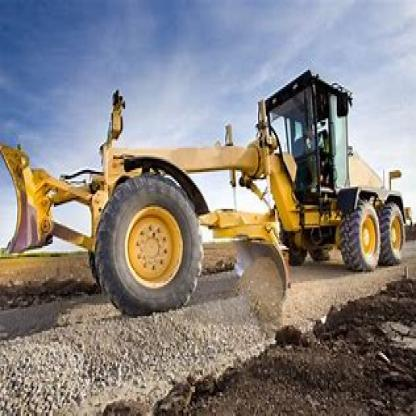bull_dozer/loader/grader: (65, 57, 412, 322)
